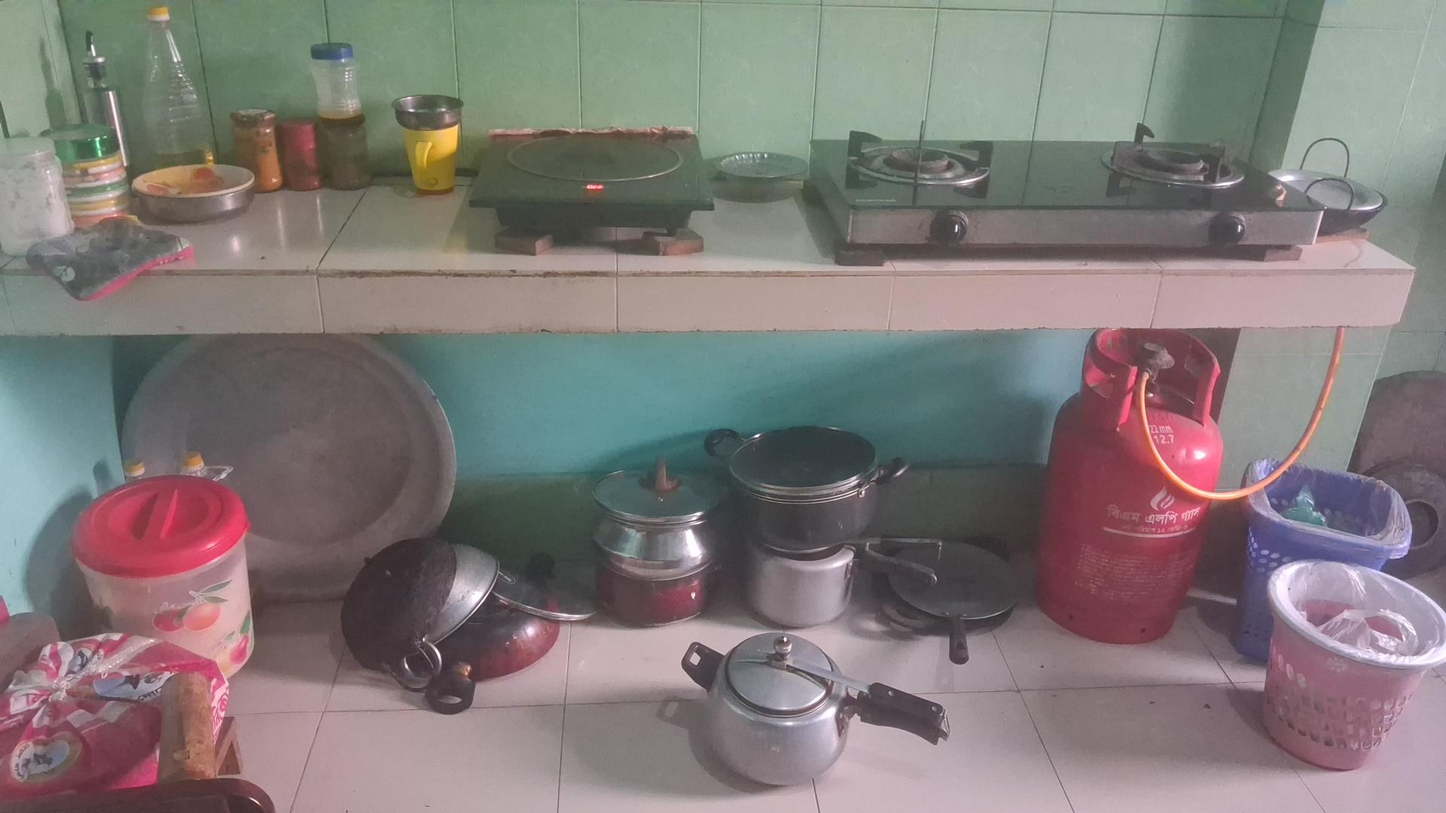Basket: (1267, 559, 1446, 768), (1241, 462, 1408, 655)
Bottle: (137, 4, 210, 160)
Bowl: (128, 165, 256, 221), (716, 156, 811, 202)
Cooker: (679, 629, 952, 789)
Jar: (76, 479, 256, 681), (52, 117, 132, 221), (2, 134, 69, 249), (226, 100, 284, 191), (310, 39, 364, 119), (328, 121, 371, 186), (288, 119, 321, 193)
Mug: (894, 535, 1017, 661), (403, 121, 460, 202)
Pot: (709, 412, 909, 549), (594, 466, 720, 577)
